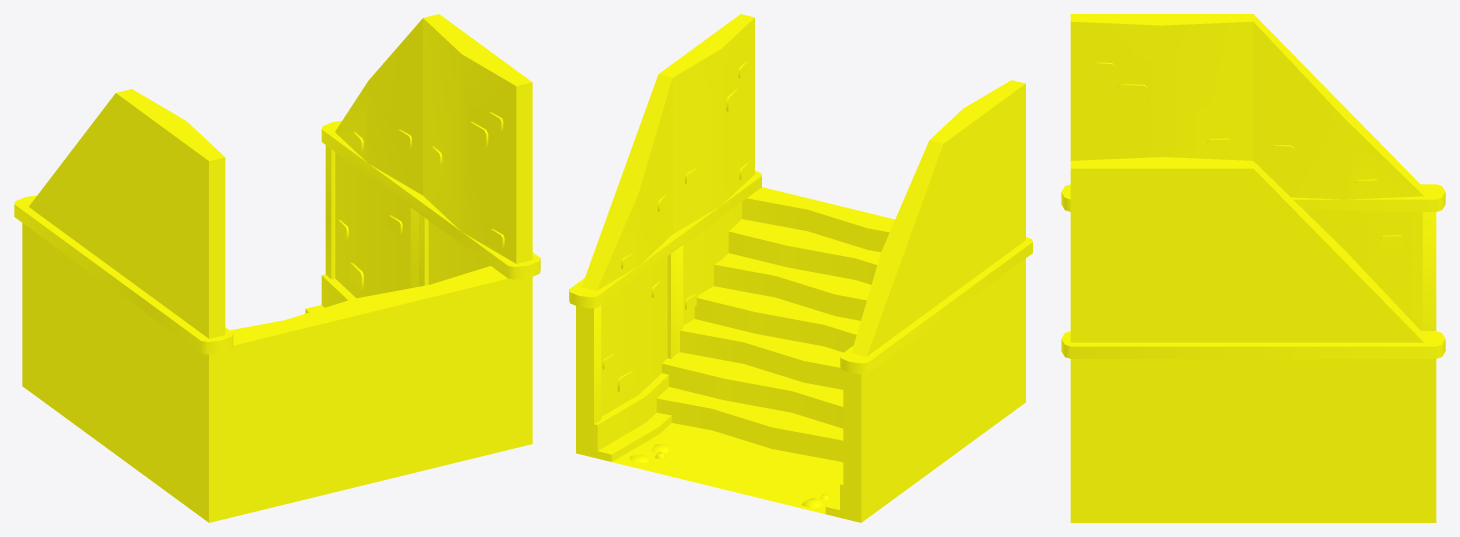
File: 建筑构件_楼梯_宽阶梯.glb
3 renders of one model, left to right at view 1: azimuth 30°, elevation 25°; view 2: azimuth 150°, elevation 25°; view 3: azimuth 270°, elevation 25°, orthographic. The views are drawn at different scales.
Visible parts, largest first — view 1: stairs-wide; view 2: stairs-wide; view 3: stairs-wide.
Boxes of the visible parts, x1=… form: stairs-wide: x1=14, y1=14, x2=540, y2=522; stairs-wide: x1=569, y1=14, x2=1032, y2=522; stairs-wide: x1=1061, y1=14, x2=1445, y2=522.
Size of the model in its own units: 8.4 by 8.55 by 8.4.
Materials: 1 (1 with a texture image).
